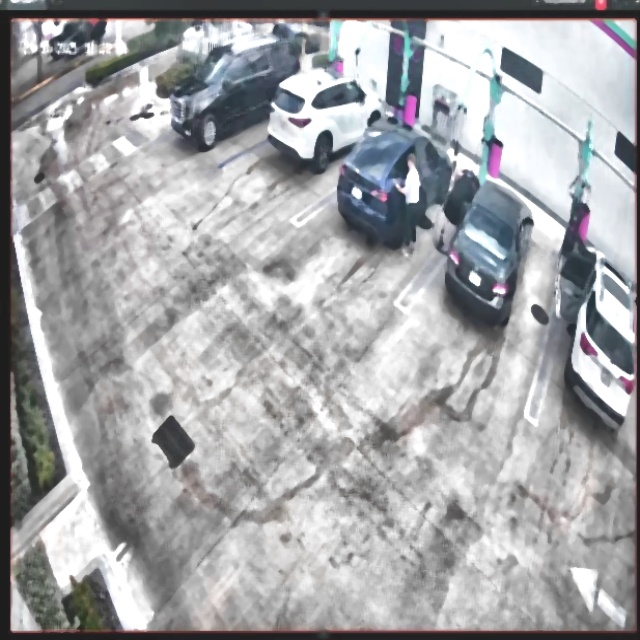Car: (339, 113, 452, 241), (448, 169, 533, 329), (268, 68, 384, 169)
